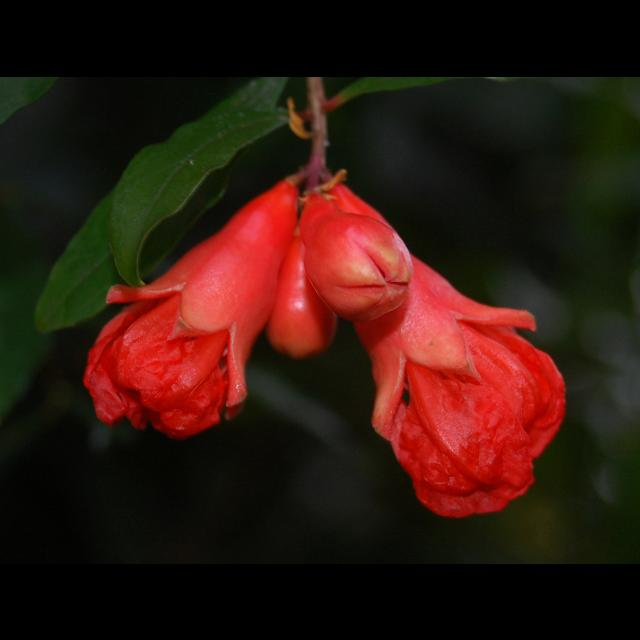Flower: (332, 182, 568, 520), (86, 182, 300, 438)
